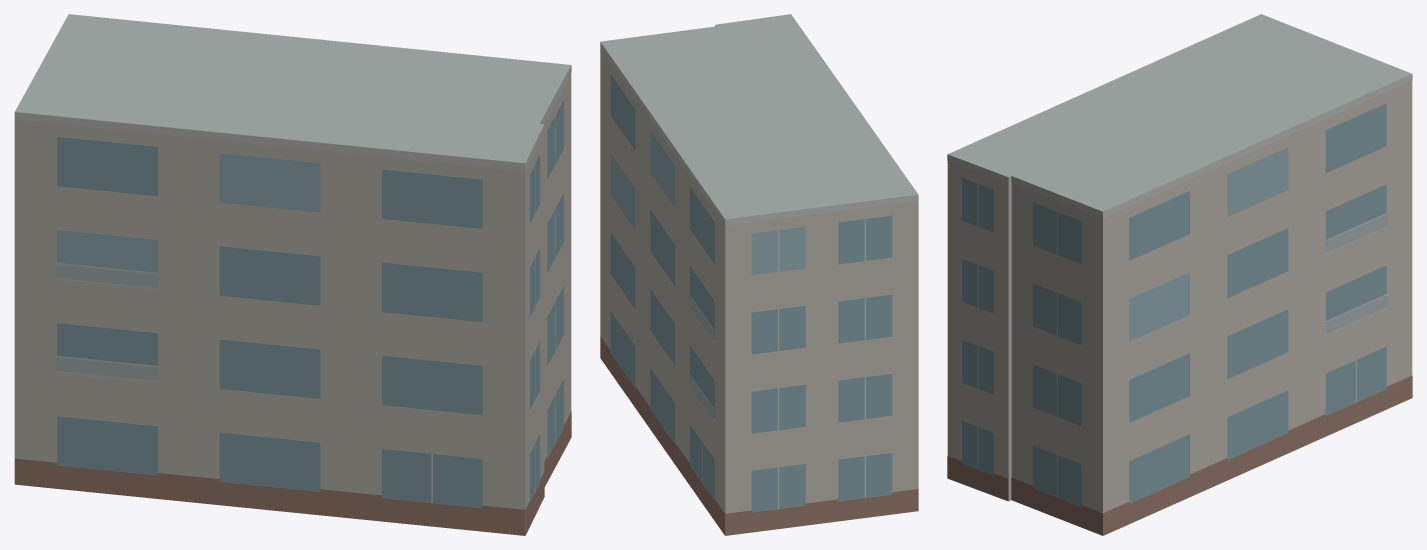
The model's file is survey-upis-32510838.glb.
3 views of the same model, side by side, from view 1: azimuth 30°, elevation 25°; view 2: azimuth 150°, elevation 25°; view 3: azimuth 270°, elevation 25° (orthographic). The views are drawn at different scales.
Visible parts, largest first — view 1: survey-upis-32510838.tmp; view 2: survey-upis-32510838.tmp; view 3: survey-upis-32510838.tmp.
Part boxes in pixels (<box>): survey-upis-32510838.tmp: <box>14,14,571,535</box>; survey-upis-32510838.tmp: <box>600,14,918,535</box>; survey-upis-32510838.tmp: <box>947,14,1412,535</box>.
Bounding box in the file's own units: 15.31 × 11.7 × 15.21.
